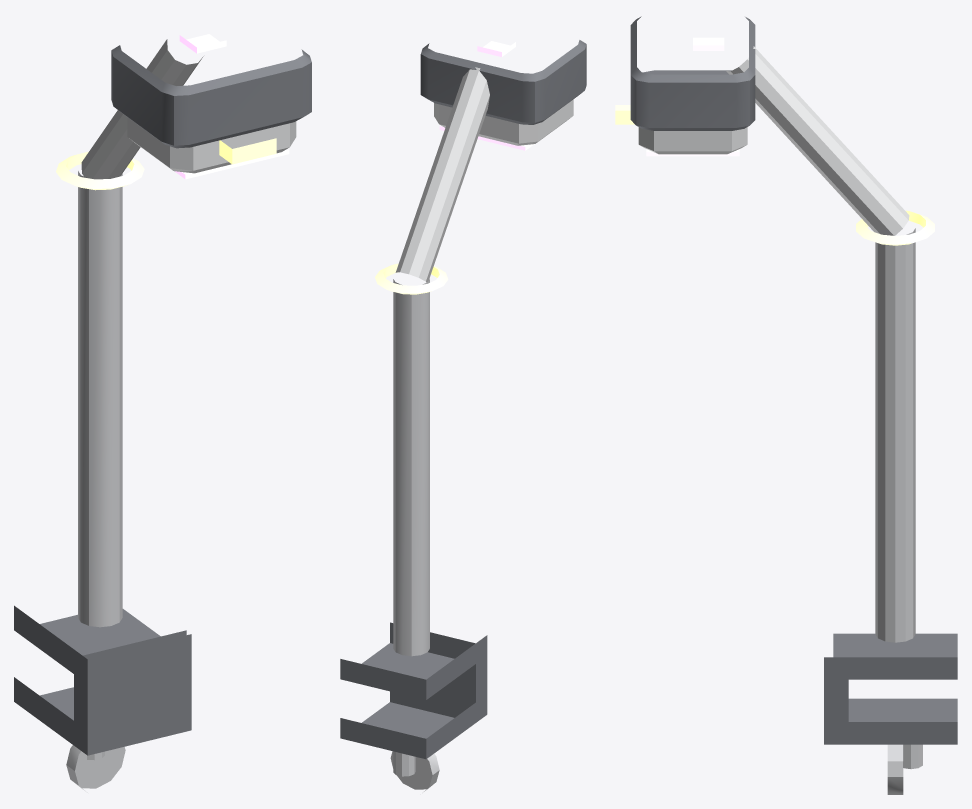
The model's file is iter_05.glb.
3 views of the same model, side by side, from view 1: azimuth 30°, elevation 25°; view 2: azimuth 150°, elevation 25°; view 3: azimuth 270°, elevation 25° (orthographic). The views are drawn at different scales.
Parts seen in each view (by area): view 1: Post, Clamp, Head_Dock, Arm, Head_Shell, Clamp_Screw, Latch_Lights, Service_Lug, Status; view 2: Post, Clamp, Head_Dock, Arm, Head_Shell, Clamp_Screw, Latch_Lights; view 3: Post, Clamp, Head_Dock, Arm, Head_Shell, Clamp_Screw, Latch_Lights.
Boxes of the visible parts, bbox=[...] form: Post: bbox=[78, 171, 122, 627]; Clamp: bbox=[14, 605, 191, 755]; Head_Dock: bbox=[111, 45, 311, 148]; Arm: bbox=[81, 39, 203, 179]; Head_Shell: bbox=[127, 117, 296, 173]; Clamp_Screw: bbox=[66, 745, 125, 792]; Latch_Lights: bbox=[56, 151, 144, 190]; Service_Lug: bbox=[219, 138, 276, 164]; Status: bbox=[179, 34, 226, 53]; Post: bbox=[393, 279, 429, 656]; Clamp: bbox=[340, 622, 487, 759]; Head_Dock: bbox=[420, 40, 586, 124]; Arm: bbox=[395, 67, 489, 282]; Head_Shell: bbox=[434, 99, 573, 145]; Clamp_Screw: bbox=[390, 751, 439, 791]; Latch_Lights: bbox=[375, 263, 448, 294]; Post: bbox=[875, 228, 915, 642]; Clamp: bbox=[824, 633, 957, 744]; Head_Dock: bbox=[630, 16, 755, 130]; Arm: bbox=[726, 46, 909, 235]; Head_Shell: bbox=[638, 127, 747, 154]; Clamp_Screw: bbox=[887, 744, 922, 794]; Latch_Lights: bbox=[856, 210, 934, 245].
Bounding box in the file's own units: 0.1 × 0.534 × 0.22.
